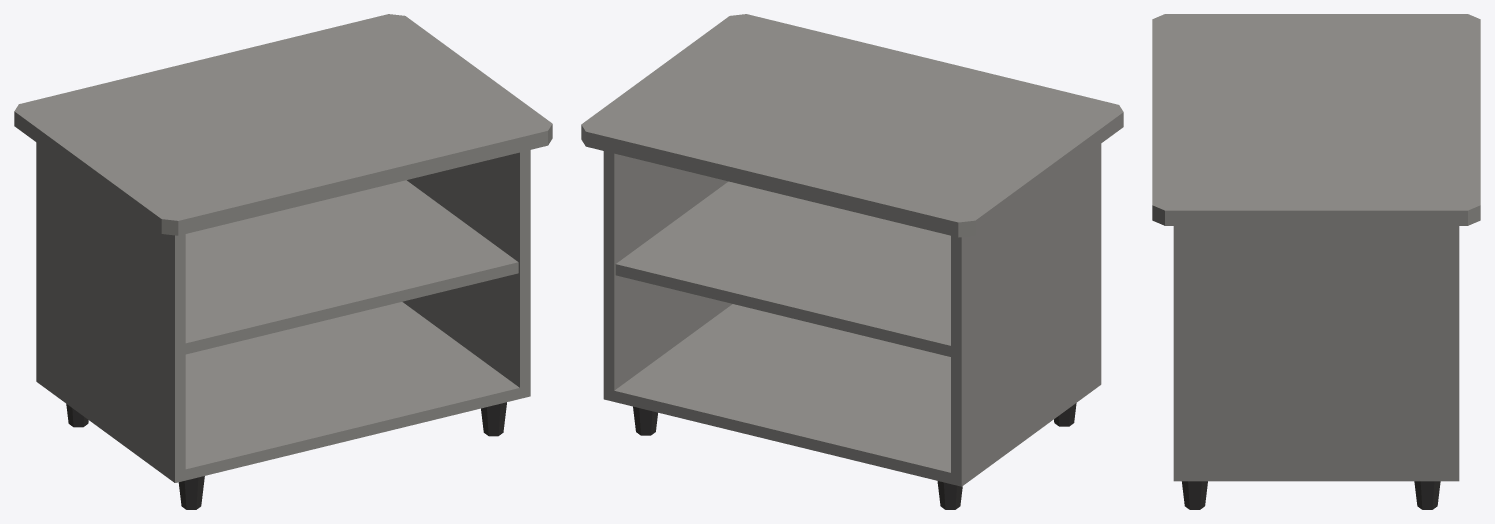
The model's file is SM_Props_Interior_Shop_Restaurant_Kitchen_WorkTable_01.fbx.
3 renders of one model, left to right at view 1: azimuth 30°, elevation 25°; view 2: azimuth 150°, elevation 25°; view 3: azimuth 270°, elevation 25°, orthographic. The views are drawn at different scales.
Visible parts, largest first — view 1: SM_Props_Interior_Shop_Restaurant_Kitchen_WorkTable_01; view 2: SM_Props_Interior_Shop_Restaurant_Kitchen_WorkTable_01; view 3: SM_Props_Interior_Shop_Restaurant_Kitchen_WorkTable_01.
Boxes of the visible parts, <box> form: SM_Props_Interior_Shop_Restaurant_Kitchen_WorkTable_01: <box>14,14,552,509</box>; SM_Props_Interior_Shop_Restaurant_Kitchen_WorkTable_01: <box>581,14,1123,509</box>; SM_Props_Interior_Shop_Restaurant_Kitchen_WorkTable_01: <box>1152,14,1480,509</box>.
Size of the model in its own units: 110 by 83 by 77.69.
